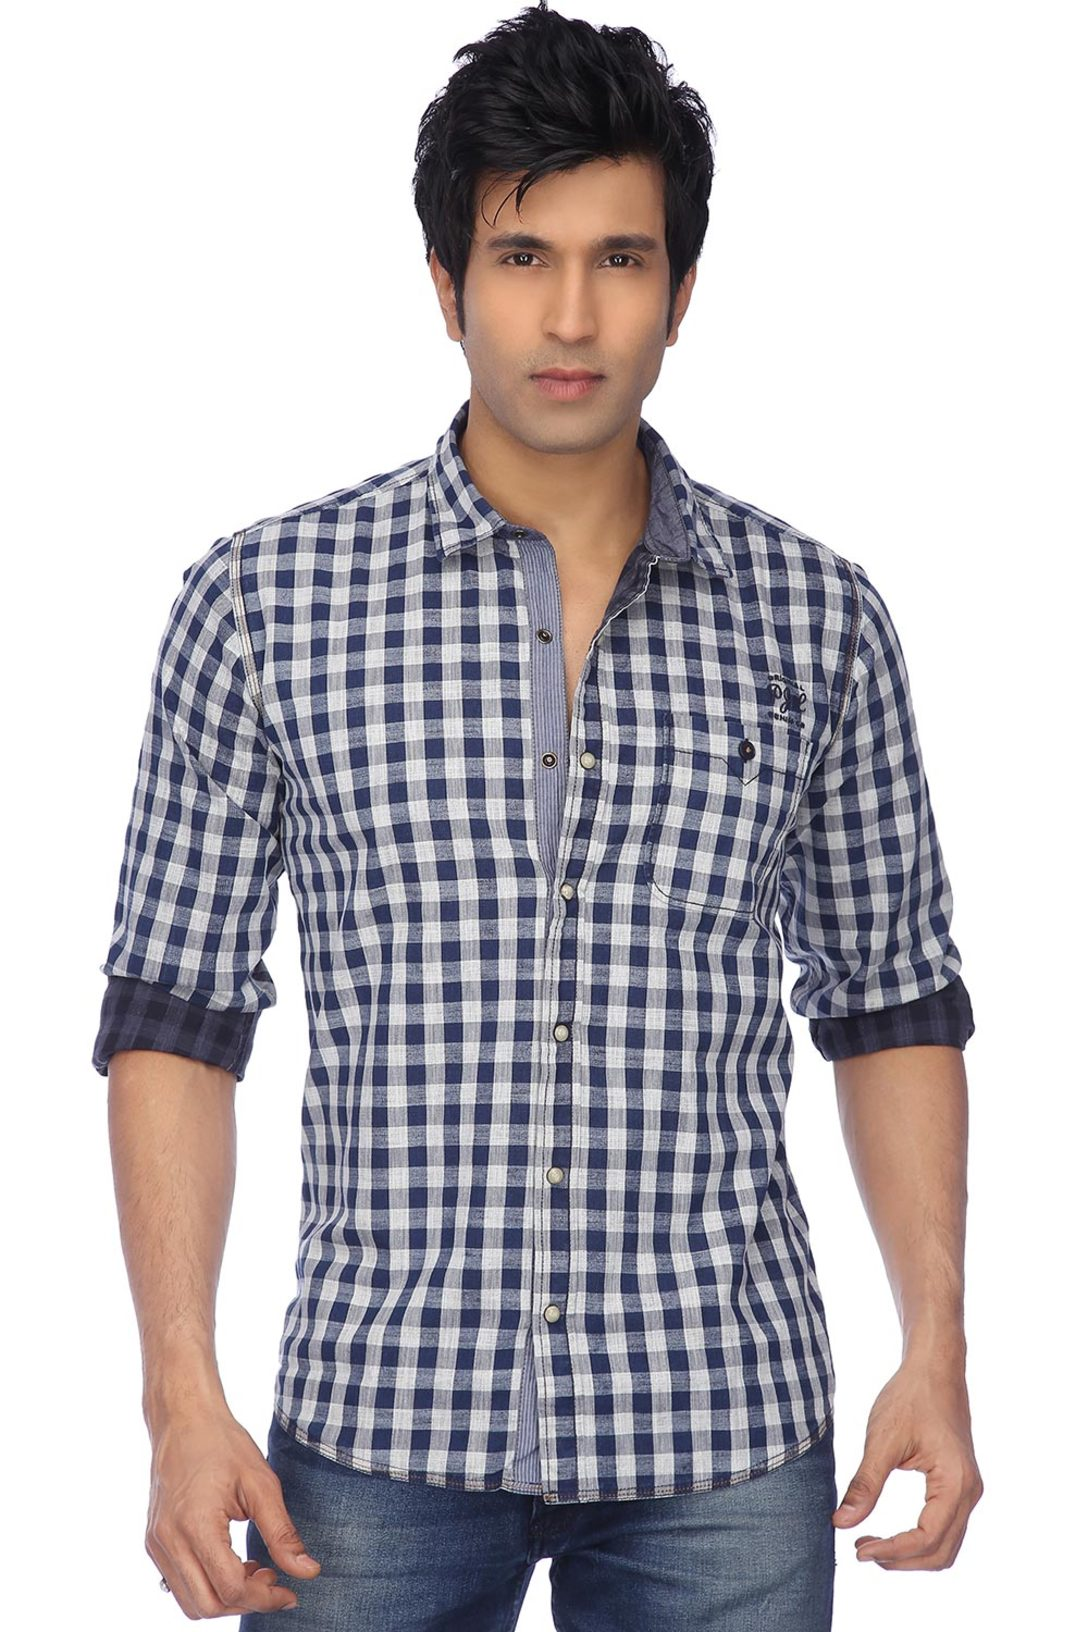Shirt: (83, 365, 1088, 1519)
